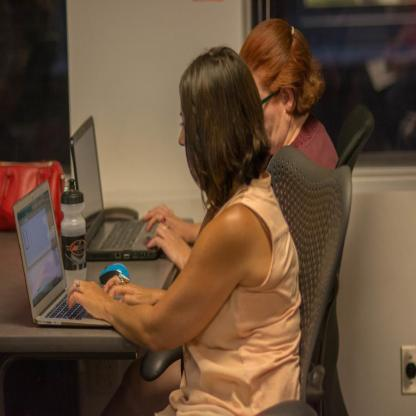board: (12, 181, 124, 326), (70, 116, 161, 262), (60, 177, 86, 292)
